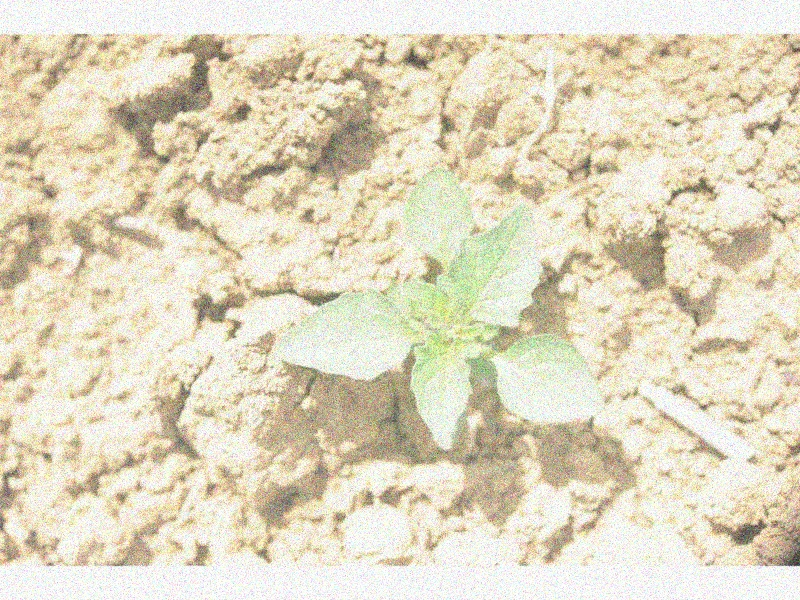nightshade: (281, 168, 604, 448)
